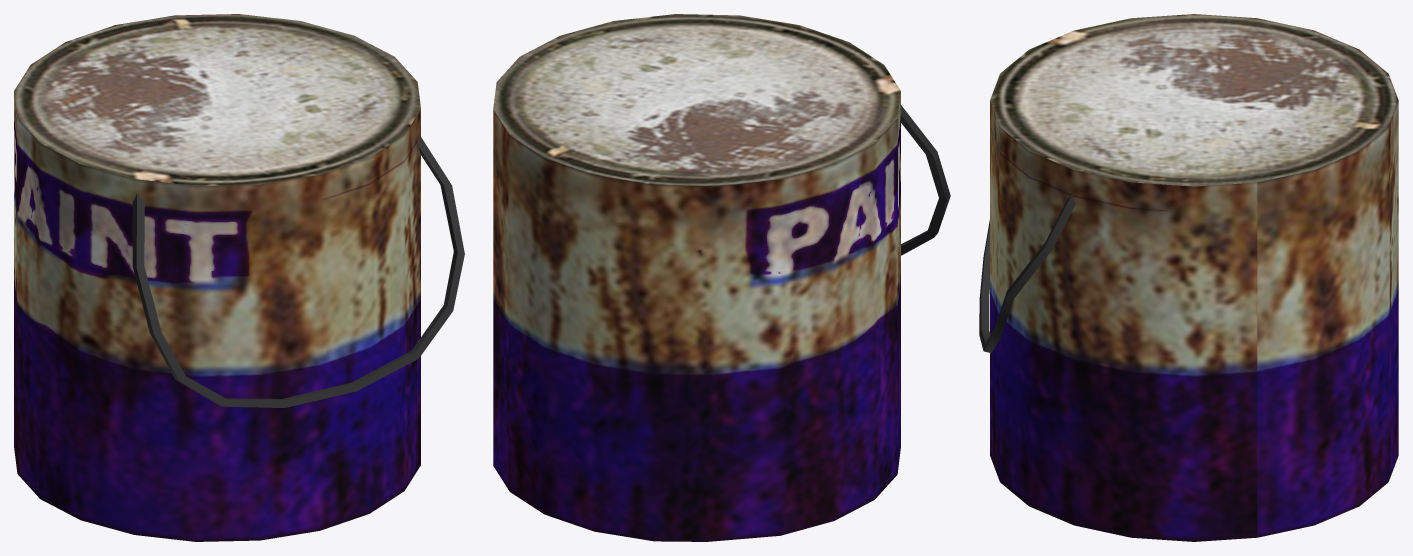
File: PaintBucketAFixed_1.fbx
3 renders of one model, left to right at view 1: azimuth 30°, elevation 25°; view 2: azimuth 150°, elevation 25°; view 3: azimuth 270°, elevation 25°, orthographic.
Visible parts, largest first — view 1: PaintCan; view 2: PaintCan; view 3: PaintCan.
Boxes of the visible parts, x1=… form: PaintCan: x1=14, y1=14, x2=464, y2=541; PaintCan: x1=493, y1=14, x2=950, y2=541; PaintCan: x1=979, y1=14, x2=1398, y2=541.
Bounding box in the file's own units: 123 × 118 × 126.
